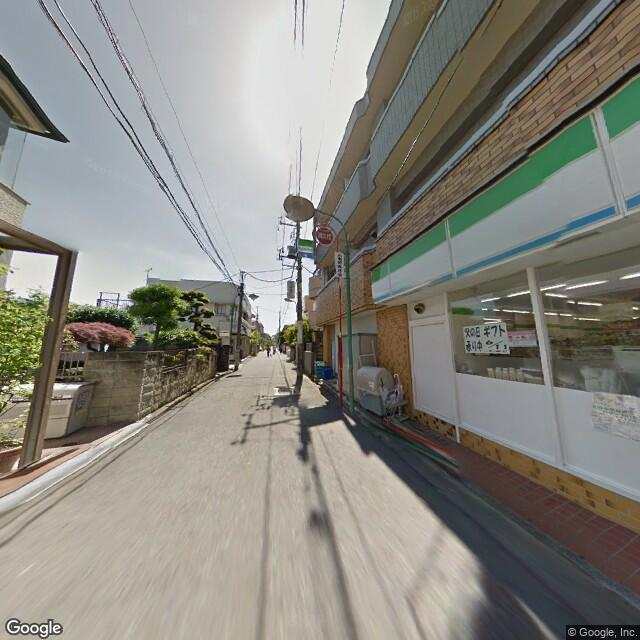family_mart: (371, 72, 637, 303), (294, 239, 315, 260)
